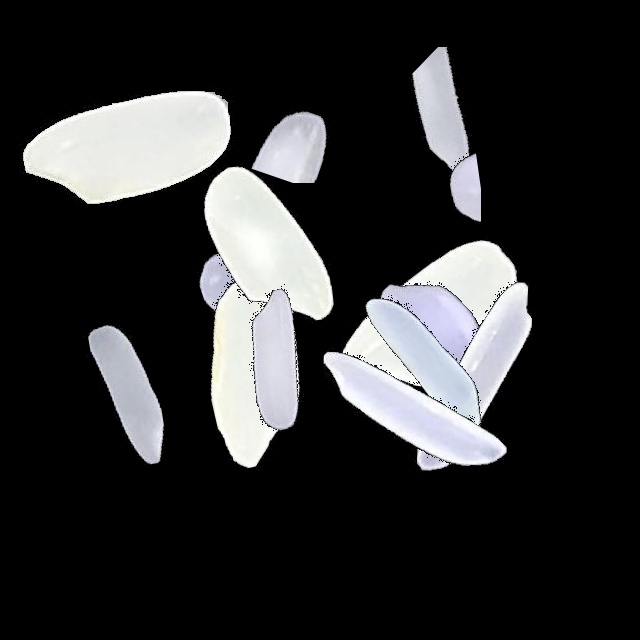Broken: (348, 47, 598, 214), (119, 164, 369, 325), (178, 58, 428, 183), (384, 67, 481, 317), (253, 135, 329, 385)
Full: (305, 189, 555, 439), (307, 202, 557, 452), (2, 271, 252, 521), (130, 246, 380, 496), (348, 250, 598, 500), (141, 118, 391, 368), (0, 23, 250, 273), (149, 237, 399, 487), (305, 235, 555, 485), (291, 285, 541, 535)
